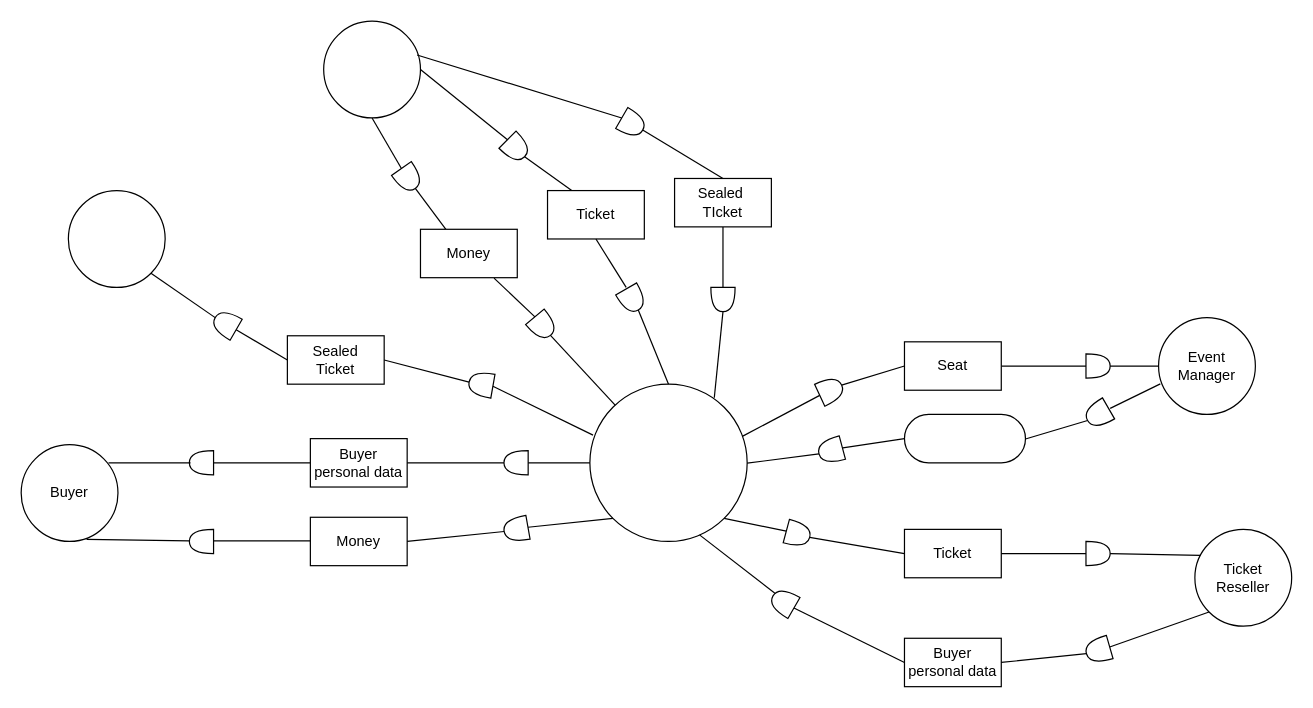
Image size: 1313x708. Some labels were removed from this diagram. The box of each missing label's shape, as (x1, y1, x2, y2) in pixels:
Payment System: (322, 20, 420, 118)
Sell Ticket: (903, 413, 1025, 463)
System: (589, 383, 747, 541)
Ticket Validator: (67, 189, 165, 287)
